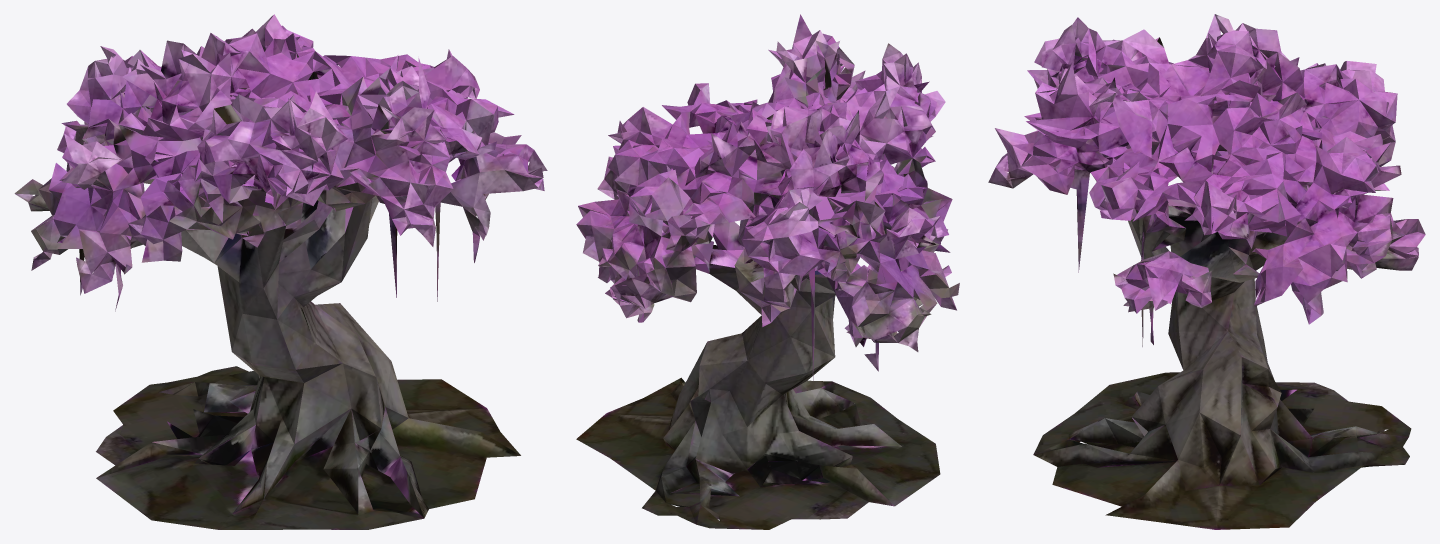
Rendered from fantasy_tree_13.glb.
3 views of the same model, side by side, from view 1: azimuth 30°, elevation 25°; view 2: azimuth 150°, elevation 25°; view 3: azimuth 270°, elevation 25° (orthographic). The views are drawn at different scales.
Size of the model in its own units: 1.91 by 1.86 by 1.82.
Materials: 1 (1 with a texture image).
